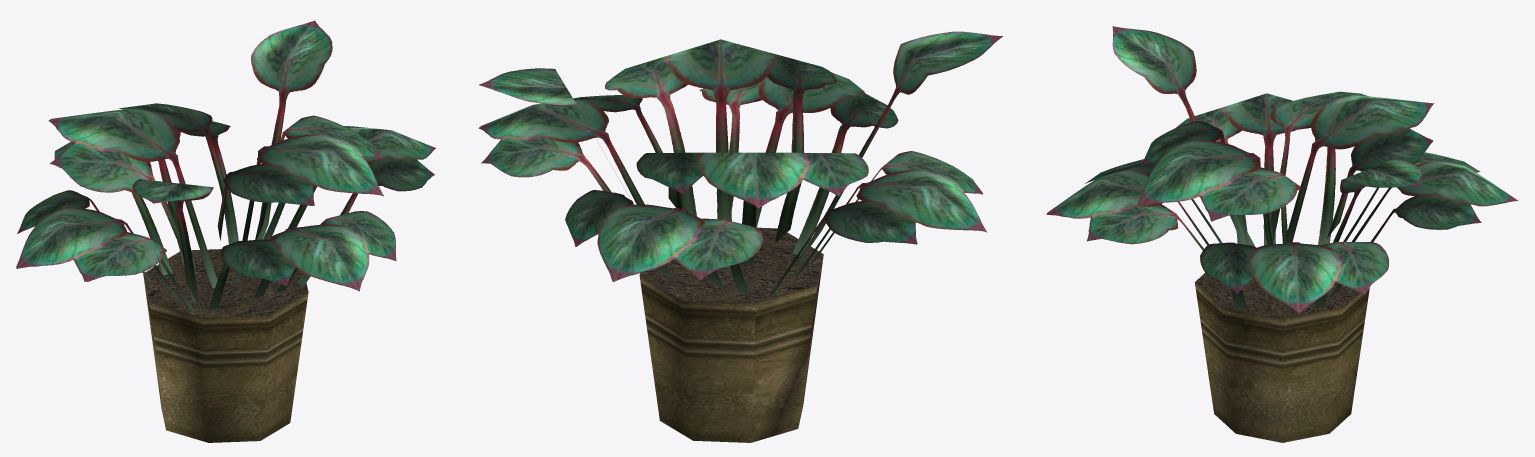
File: frn_all_potted_plants_sml_s04_l1.fbx
3 views of the same model, side by side, from view 1: azimuth 30°, elevation 25°; view 2: azimuth 150°, elevation 25°; view 3: azimuth 270°, elevation 25° (orthographic). The views are drawn at different scales.
Visible parts, largest first — view 1: mesh_node; view 2: mesh_node; view 3: mesh_node.
Part boxes in pixels (x1,y1,x2,y2): mesh_node: (16, 20, 436, 442); mesh_node: (478, 31, 1002, 442); mesh_node: (1046, 26, 1518, 442).
Bounding box in the file's own units: 1.49 × 1.01 × 1.4.
